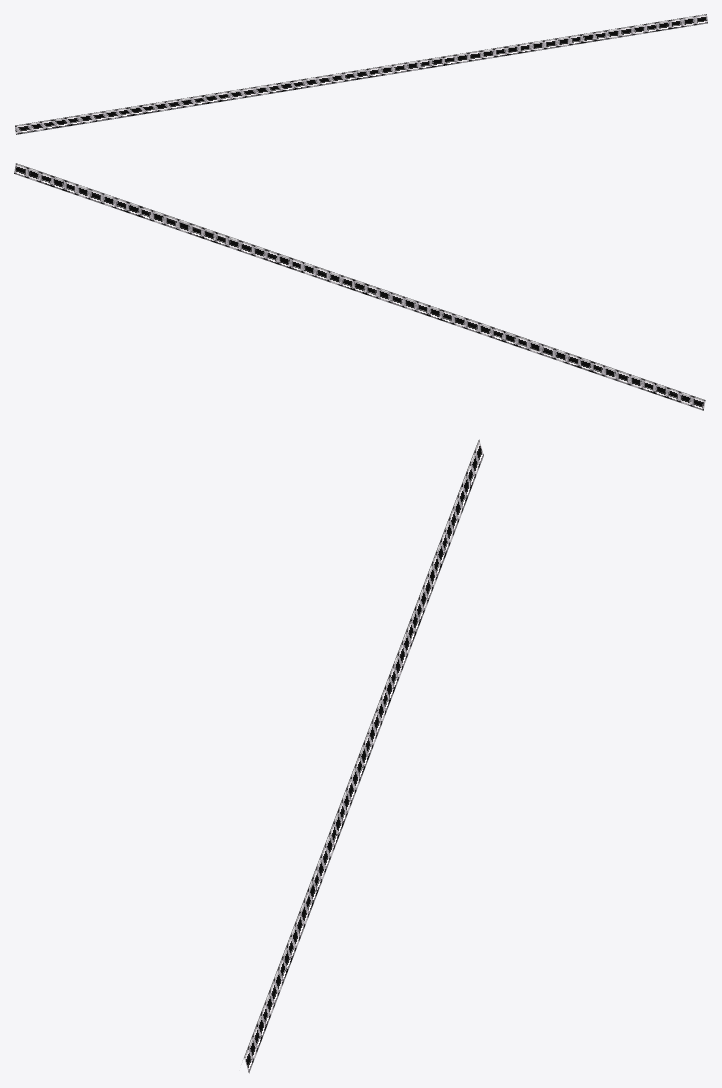
3 renders of one model, top to bottom at view 1: azimuth 30°, elevation 25°; view 2: azimuth 150°, elevation 25°; view 3: azimuth 270°, elevation 25°, orthographic. The views are drawn at different scales.
Visible parts, largest first — view 1: Cylinder26; view 2: Cylinder26; view 3: Cylinder26.
Part boxes in pixels (bbox=[...]): Cylinder26: bbox=[15, 14, 707, 134]; Cylinder26: bbox=[14, 163, 705, 410]; Cylinder26: bbox=[242, 439, 483, 1073].
Bounding box in the file's own units: 532 × 6.54 × 89.29.
Materials: 1 (1 with a texture image).
